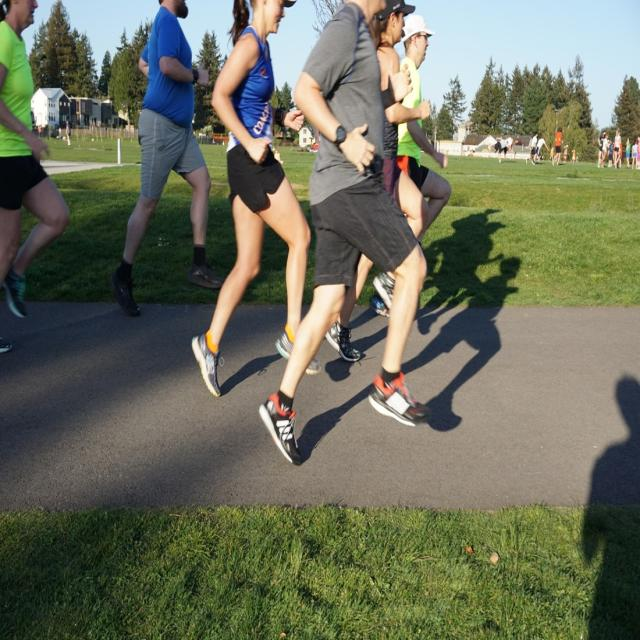body: (255, 0, 436, 471), (188, 0, 326, 401), (321, 0, 432, 367), (107, 0, 225, 320), (369, 12, 454, 319), (0, 0, 72, 360), (422, 199, 522, 445), (572, 368, 638, 638), (198, 132, 320, 153), (540, 137, 624, 166), (530, 136, 550, 166), (550, 126, 564, 168), (488, 136, 509, 164), (525, 130, 539, 166), (36, 123, 62, 142), (524, 129, 538, 164), (468, 142, 493, 160), (597, 132, 609, 168), (612, 125, 622, 168), (597, 130, 607, 170), (503, 136, 515, 162), (624, 137, 632, 169), (64, 117, 72, 146), (631, 139, 638, 170), (563, 142, 569, 164), (637, 136, 640, 170), (535, 134, 540, 146), (536, 154, 540, 167)
